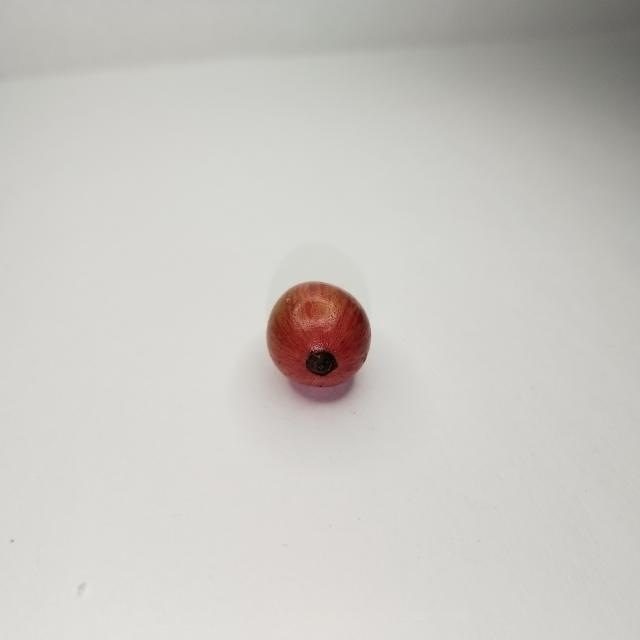Infectado: (267, 281, 371, 387)
